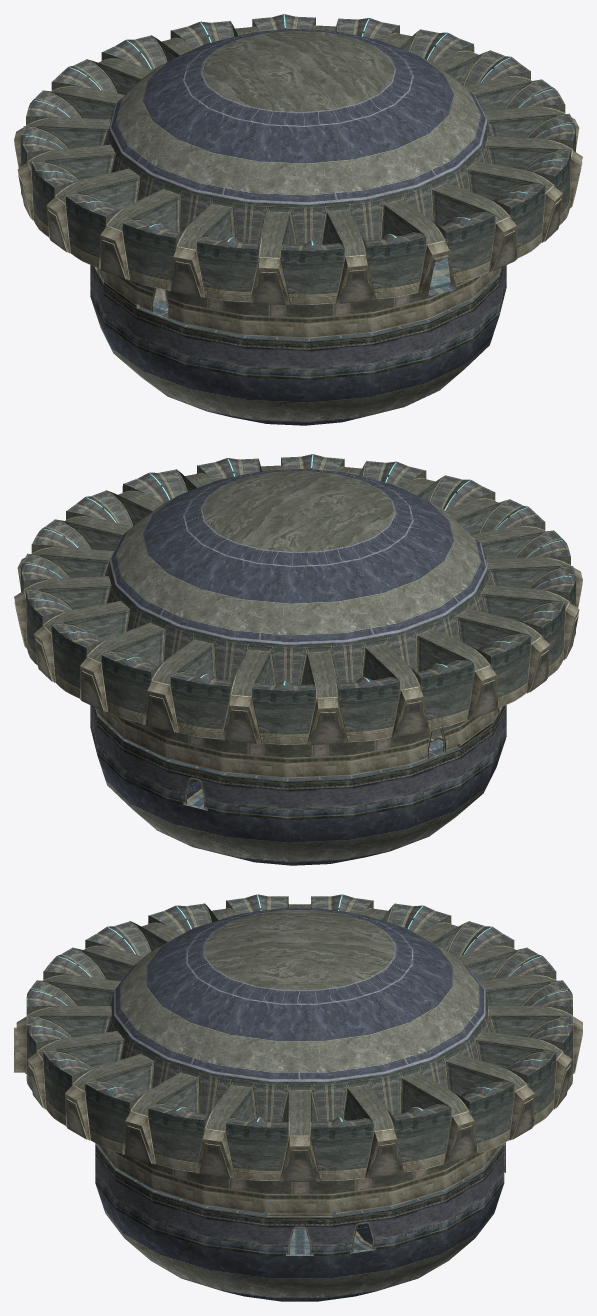
The model's file is thm_yavn_jedi_enclave_light_r1_auditorium_mesh_r1.fbx.
3 renders of one model, top to bottom at view 1: azimuth 30°, elevation 25°; view 2: azimuth 150°, elevation 25°; view 3: azimuth 270°, elevation 25°, orthographic.
Visible parts, largest first — view 1: mesh_node; view 2: mesh_node; view 3: mesh_node.
Boxes of the visible parts, x1,y1,x2,y2 form: mesh_node: (14,14,582,425); mesh_node: (14,454,582,865); mesh_node: (14,894,582,1301).
Size of the model in its own units: 57.46 by 37.26 by 57.73.
